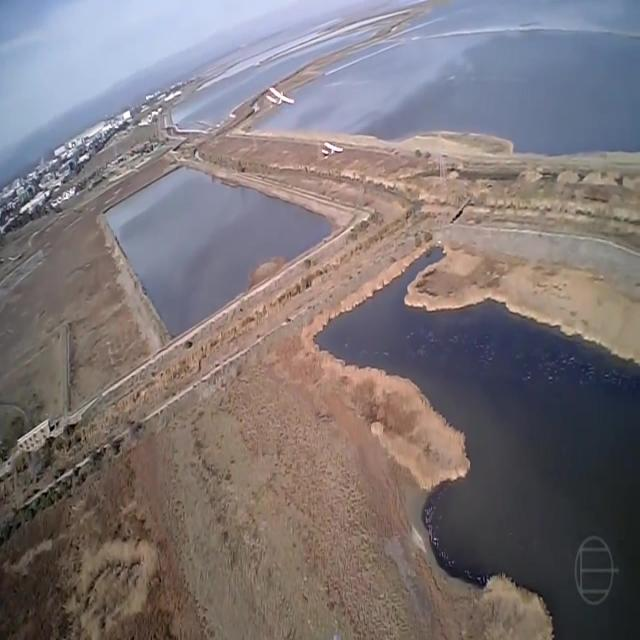iha: (265, 22, 295, 43), (315, 140, 338, 157)
